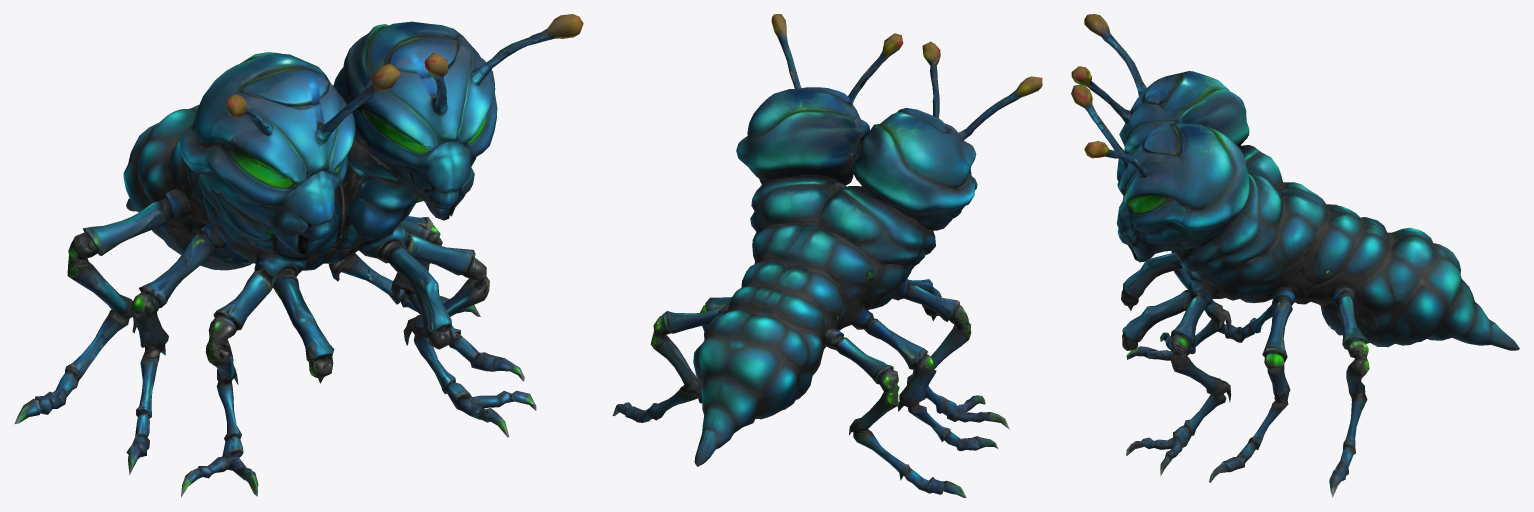
File: monster_16.glb
3 renders of one model, left to right at view 1: azimuth 30°, elevation 25°; view 2: azimuth 150°, elevation 25°; view 3: azimuth 270°, elevation 25°, orthographic. The views are drawn at different scales.
Visible parts, largest first — view 1: Death_Locust_0709131354_texture; view 2: Death_Locust_0709131354_texture; view 3: Death_Locust_0709131354_texture.
Part boxes in pixels (bbox=[...]): Death_Locust_0709131354_texture: bbox=[14, 14, 583, 497]; Death_Locust_0709131354_texture: bbox=[612, 14, 1042, 497]; Death_Locust_0709131354_texture: bbox=[1071, 14, 1519, 497].
Bounding box in the file's own units: 1.86 × 1.65 × 2.01.
Materials: 1 (1 with a texture image).
